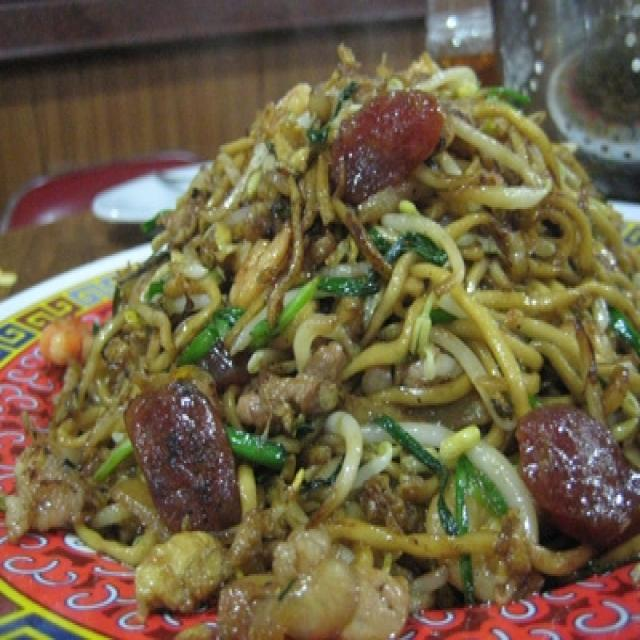面条主食: (19, 38, 632, 625)
